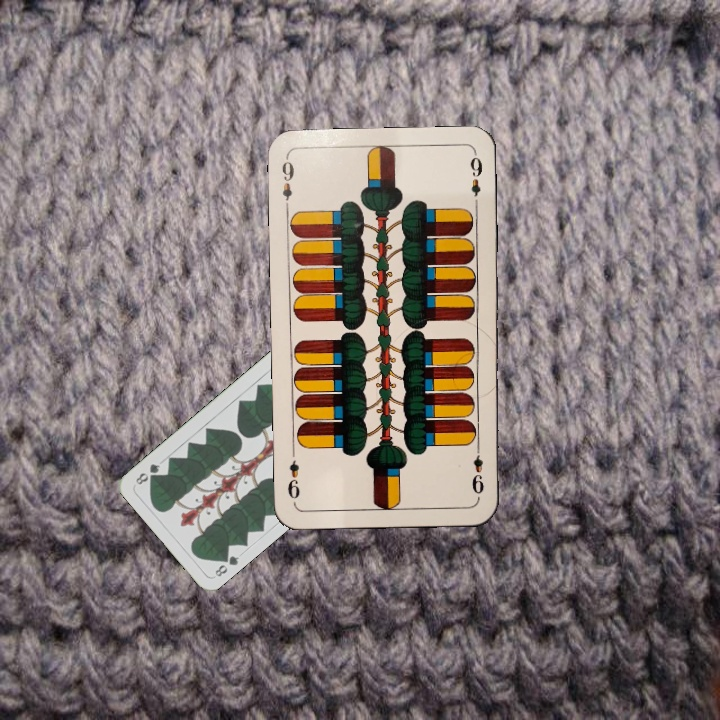E9: (277, 154, 297, 213), (468, 441, 487, 500)
G8: (211, 549, 242, 579)
